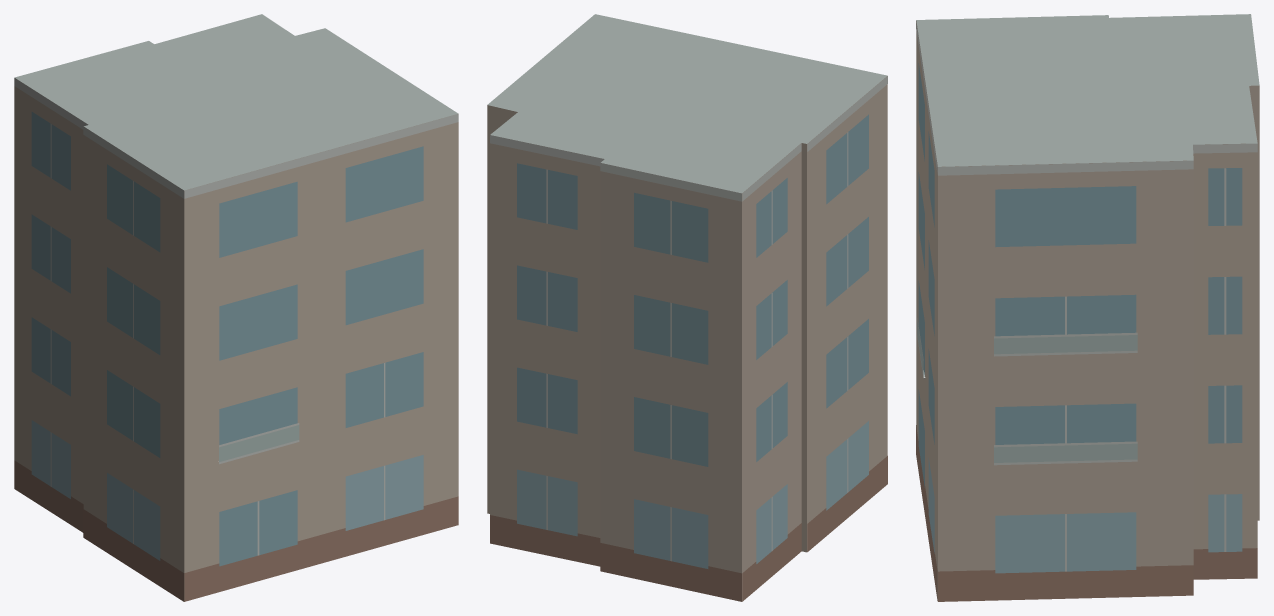
File: survey-upis-32698402.glb
The picture shows the model from 3 angles, left to right: view 1: azimuth 30°, elevation 25°; view 2: azimuth 150°, elevation 25°; view 3: azimuth 270°, elevation 25°; orthographic projection. The views are drawn at different scales.
Parts seen in each view (by area): view 1: survey-upis-32698402.tmp; view 2: survey-upis-32698402.tmp; view 3: survey-upis-32698402.tmp.
Part boxes in pixels (x1=…): survey-upis-32698402.tmp: x1=14, y1=14, x2=458, y2=601; survey-upis-32698402.tmp: x1=487, y1=14, x2=887, y2=601; survey-upis-32698402.tmp: x1=916, y1=14, x2=1259, y2=601.
Size of the model in its own units: 9.05 by 12 by 8.6.
